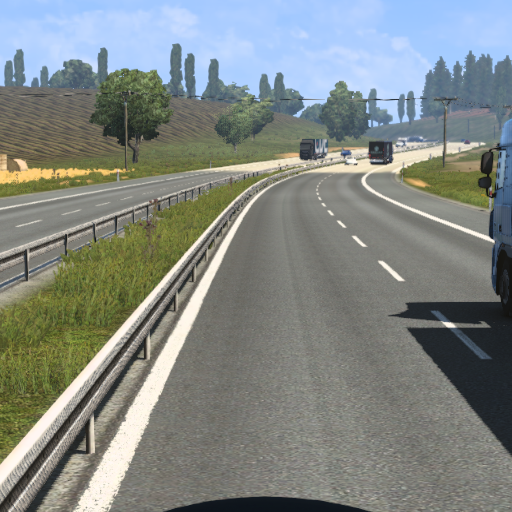markup: (428, 307, 497, 363), (374, 259, 409, 282), (348, 233, 372, 248), (333, 219, 351, 229), (325, 209, 338, 217)
markup_line: (63, 184, 273, 512), (360, 171, 496, 245)
